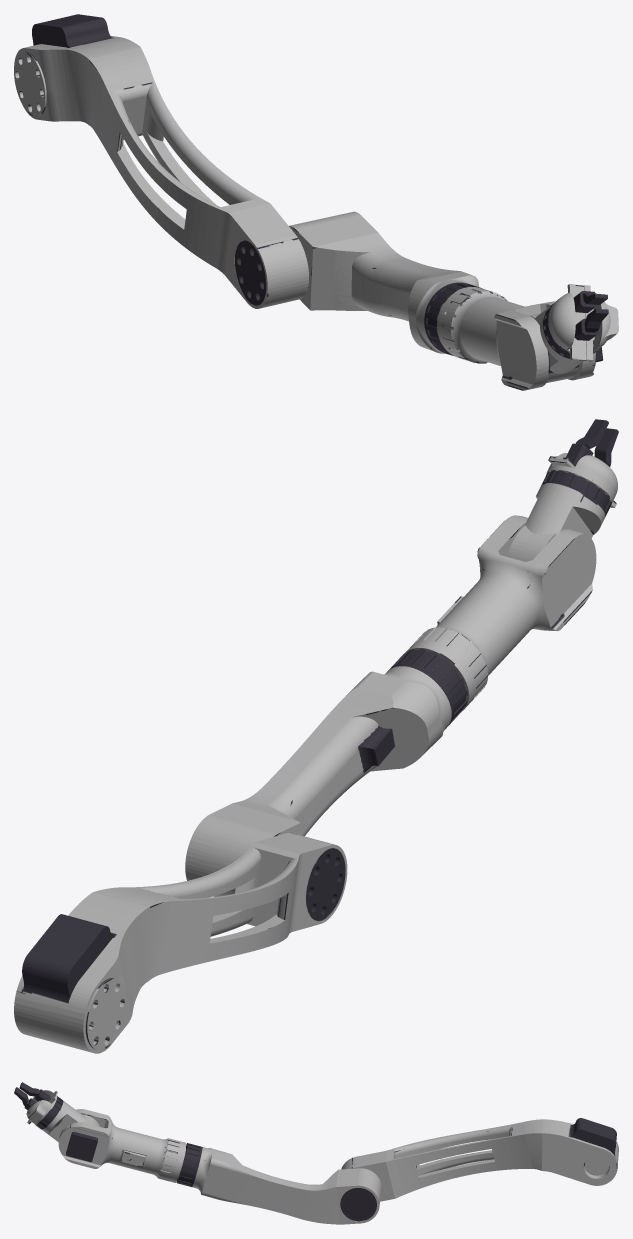
File: third_arm.fbx
3 renders of one model, top to bottom at view 1: azimuth 30°, elevation 25°; view 2: azimuth 150°, elevation 25°; view 3: azimuth 270°, elevation 25°, orthographic. The views are drawn at different scales.
Parts seen in each view (by area): view 1: Rmk3; view 2: Rmk3; view 3: Rmk3.
Boxes of the visible parts, x1,y1,x2,y2 form: Rmk3: [14, 14, 618, 390]; Rmk3: [14, 419, 618, 1053]; Rmk3: [14, 1082, 618, 1224].
Size of the model in its own units: 16.45 by 26.49 by 115.
1 material, 1 textured.
